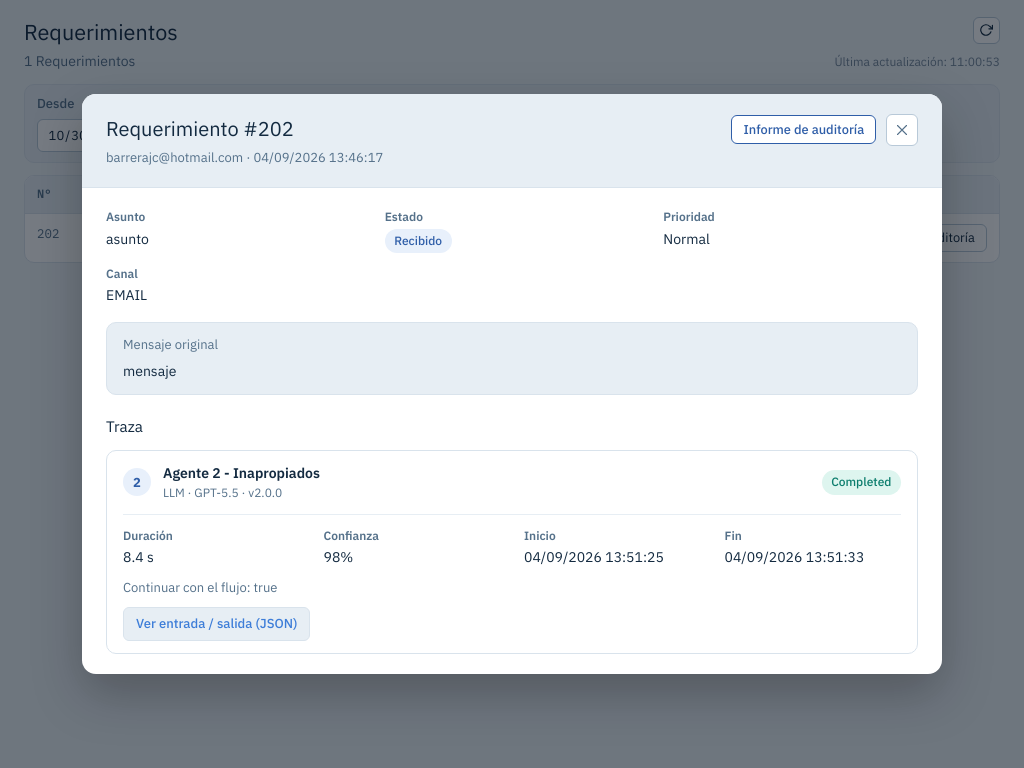
Test: ServiceRequestComponent › should render the JSON inline instead of opening a new tab
Click the button with class "json-toggle-btn" at (217, 624), box [123, 607, 310, 641]
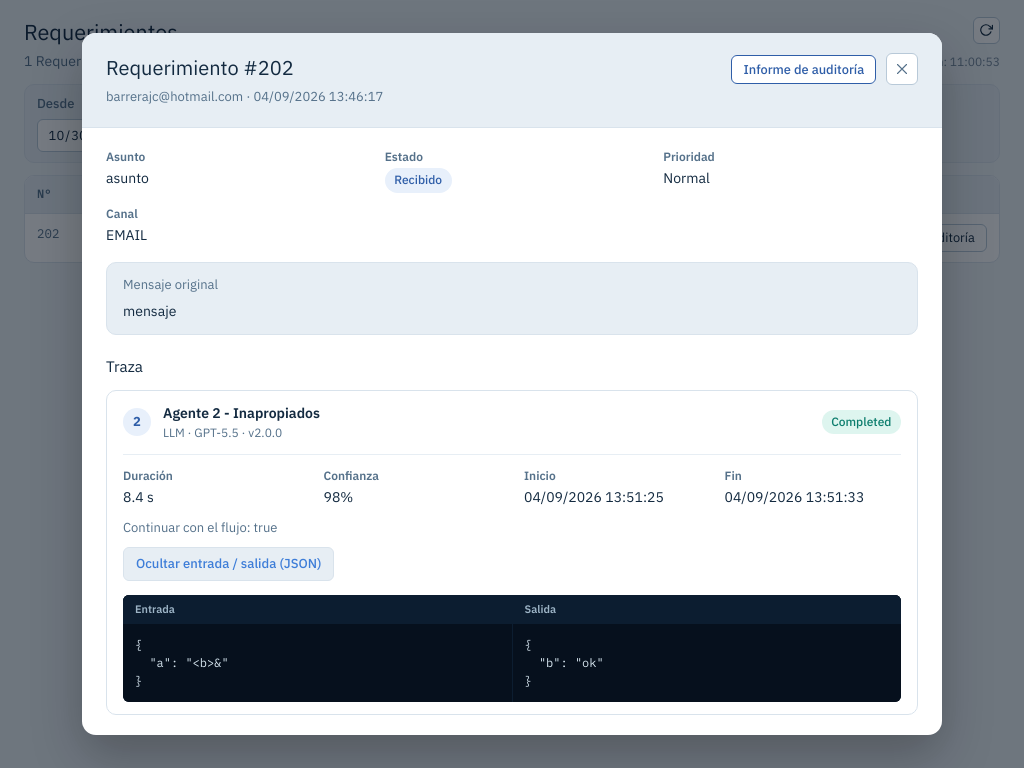
Expected: the element with class "json-panel" is shown, [123, 595, 901, 702]
Expected: the text "{ \"b\": \"ok\" }" shows "\"b\": \"ok\"", [524, 637, 604, 688]
Expected: the button with class "json-toggle-btn" shows "Ocultar entrada / salida", [123, 547, 334, 581]
